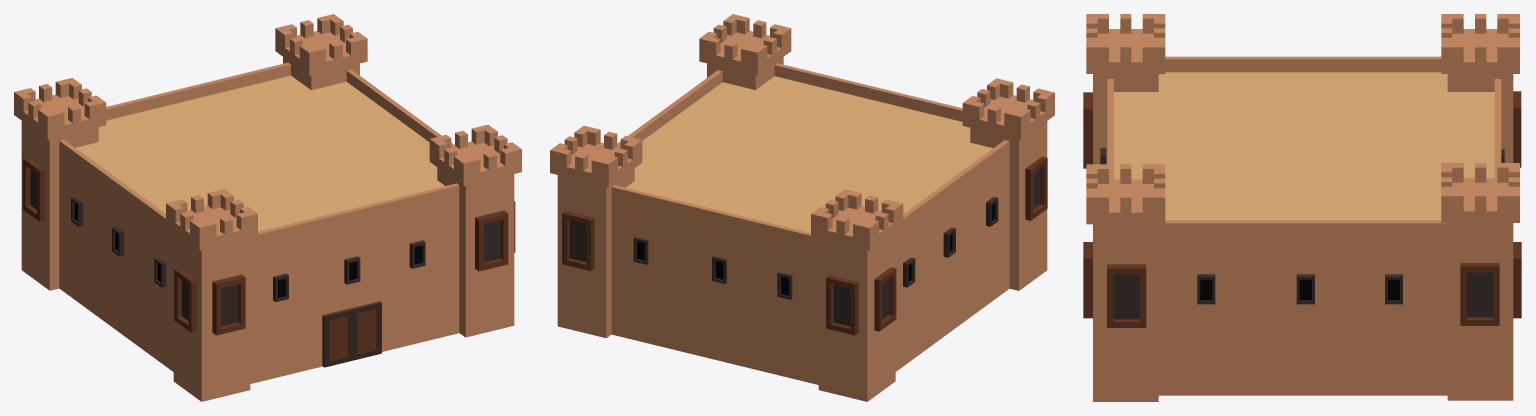
Rendered from level3.fbx.
The picture shows the model from 3 angles, left to right: view 1: azimuth 30°, elevation 25°; view 2: azimuth 150°, elevation 25°; view 3: azimuth 270°, elevation 25°; orthographic projection. The views are drawn at different scales.
Visible parts, largest first — view 1: Cube.001; view 2: Cube.001, Cube.002; view 3: Cube.001, Cube.002.
Boxes of the visible parts, bbox=[...] form: Cube.001: bbox=[14, 14, 521, 401]; Cube.001: bbox=[550, 14, 1054, 401]; Cube.002: bbox=[633, 237, 792, 299]; Cube.001: bbox=[1083, 14, 1521, 401]; Cube.002: bbox=[1197, 149, 1504, 304].
Size of the model in its own units: 1335 by 696 by 1335.
